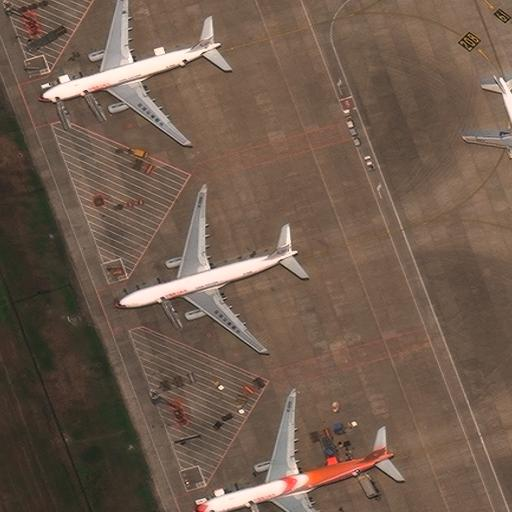Large Civil Transport: (115, 185, 297, 354), (37, 0, 220, 146), (193, 396, 393, 511)
Medium Civil Transport: (465, 74, 512, 168)
